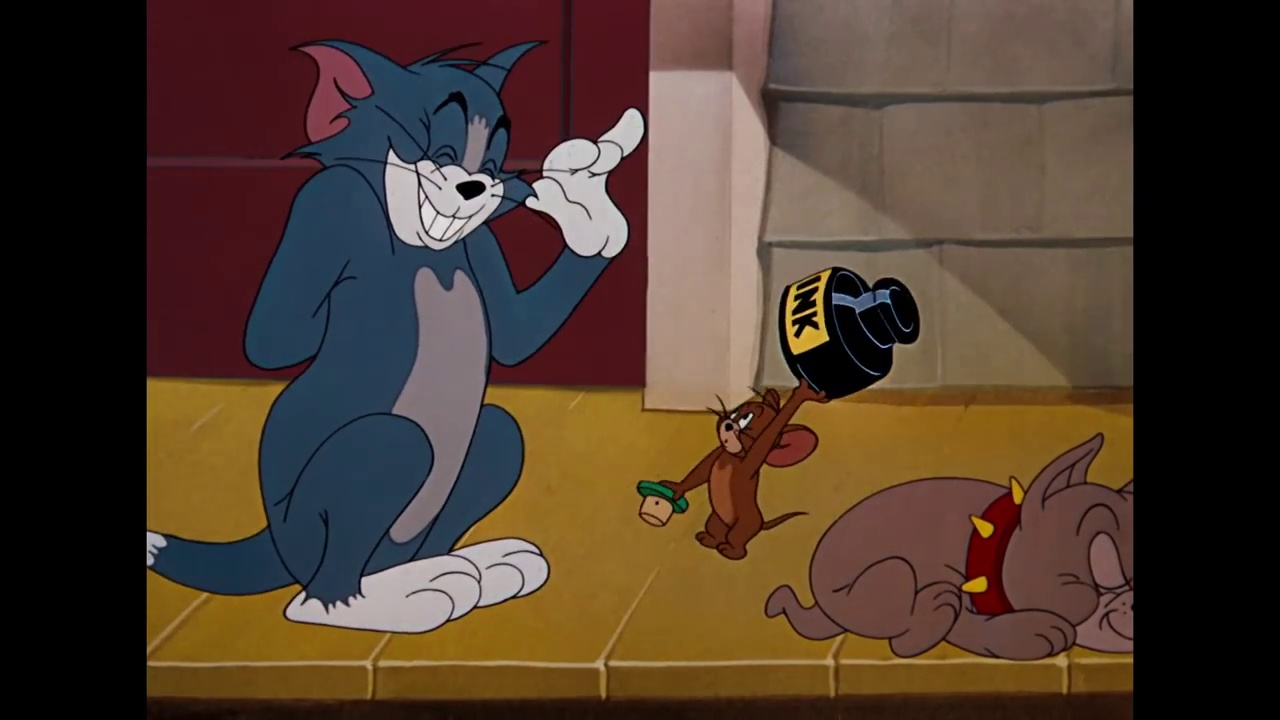tom: (279, 35, 549, 251)
